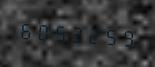five: (51, 18, 67, 46), (102, 21, 118, 49)
nine: (119, 22, 135, 51)
six: (17, 15, 33, 43)
three: (68, 19, 84, 47)
two: (85, 20, 101, 48)
zero: (34, 17, 50, 45)
